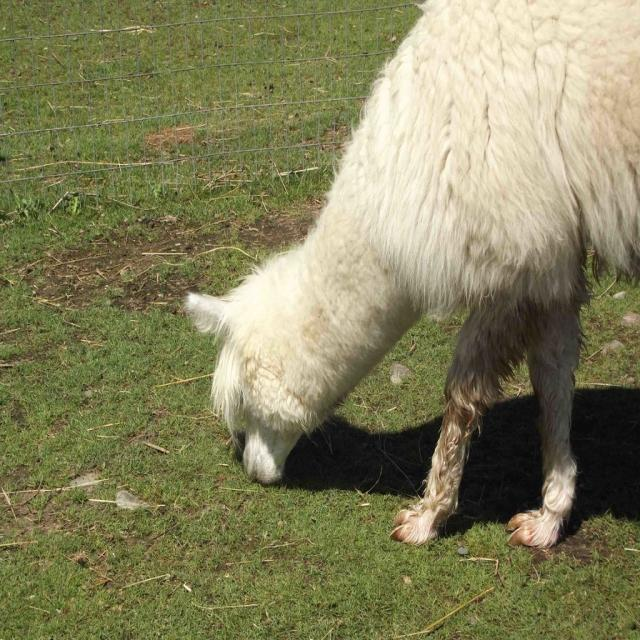Sheep: (183, 0, 639, 549)
